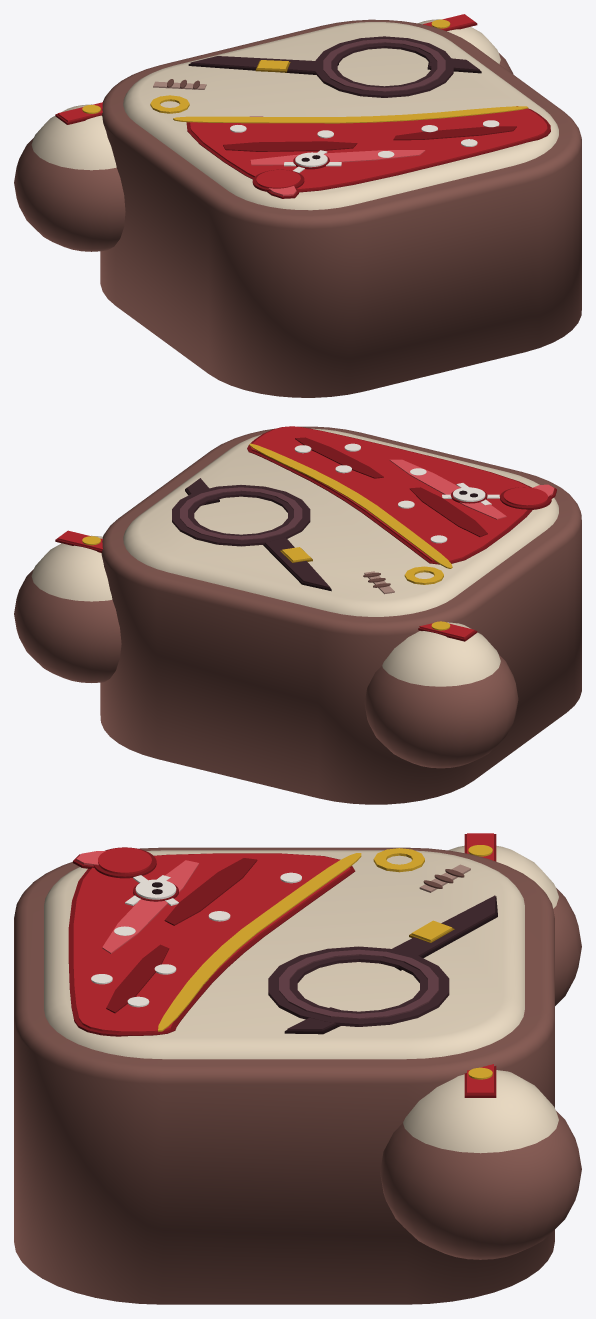
File: body_estampa_pirata.fbx
The picture shows the model from 3 angles, top to bottom: view 1: azimuth 30°, elevation 25°; view 2: azimuth 150°, elevation 25°; view 3: azimuth 270°, elevation 25°; orthographic projection. The views are drawn at different scales.
Visible parts, largest first — view 1: body_estampa_pirata_corpo, body_estampa_pirata_mao_esq, body_estampa_pirata_mao; view 2: body_estampa_pirata_corpo, body_estampa_pirata_mao_esq, body_estampa_pirata_mao; view 3: body_estampa_pirata_corpo, body_estampa_pirata_mao, body_estampa_pirata_mao_esq.
Boxes of the visible parts, x1=… form: body_estampa_pirata_corpo: x1=100, y1=19, x2=581, y2=397; body_estampa_pirata_mao_esq: x1=14, y1=102, x2=125, y2=251; body_estampa_pirata_mao: x1=418, y1=14, x2=513, y2=74; body_estampa_pirata_corpo: x1=100, y1=426, x2=581, y2=804; body_estampa_pirata_mao_esq: x1=364, y1=621, x2=518, y2=768; body_estampa_pirata_mao: x1=14, y1=530, x2=121, y2=682; body_estampa_pirata_corpo: x1=14, y1=847, x2=554, y2=1304; body_estampa_pirata_mao: x1=380, y1=1064, x2=581, y2=1259; body_estampa_pirata_mao_esq: x1=448, y1=833, x2=581, y2=1005.
Bounding box in the file's own units: 5.4 × 2.06 × 4.2.
Materials: 1 (1 with a texture image).
